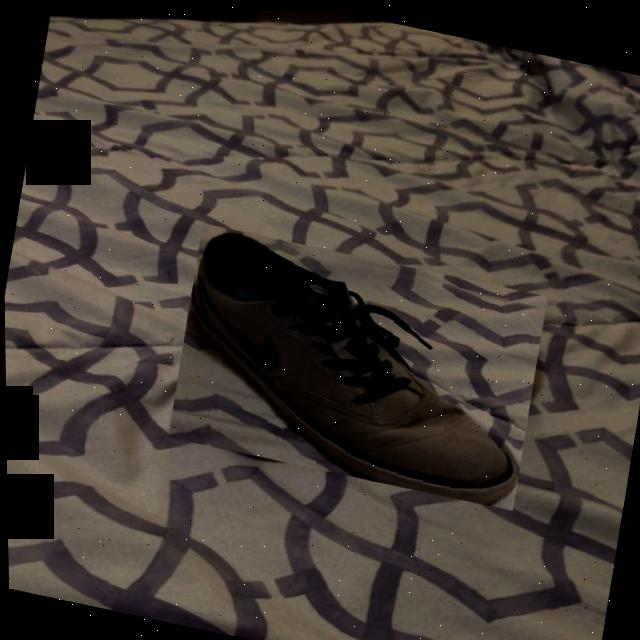shoe: (164, 220, 549, 507)
